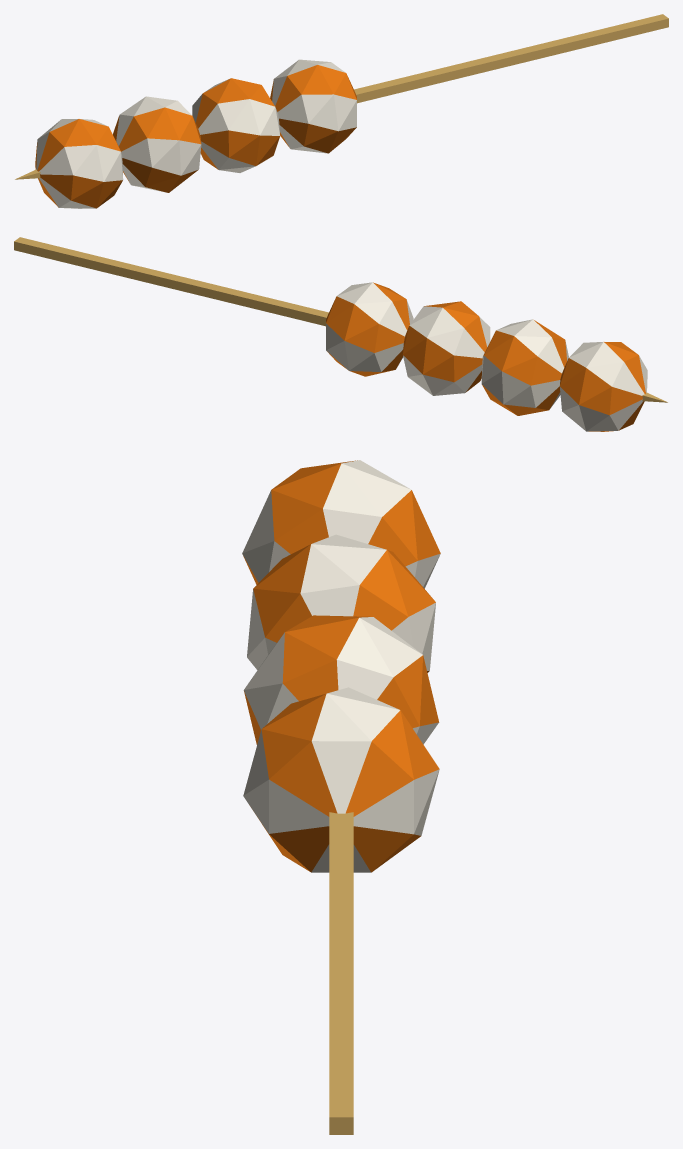
Rendered from SM_Cook_SkewerFishballStripe_Raw_01.fbx.
The picture shows the model from 3 angles, top to bottom: view 1: azimuth 30°, elevation 25°; view 2: azimuth 150°, elevation 25°; view 3: azimuth 270°, elevation 25°; orthographic projection. The views are drawn at different scales.
Visible parts, largest first — view 1: SM_Cook_SkewerFishballStripe_Raw_01; view 2: SM_Cook_SkewerFishballStripe_Raw_01; view 3: SM_Cook_SkewerFishballStripe_Raw_01.
Part boxes in pixels (bbox=[...]): SM_Cook_SkewerFishballStripe_Raw_01: bbox=[15, 14, 668, 208]; SM_Cook_SkewerFishballStripe_Raw_01: bbox=[14, 237, 667, 431]; SM_Cook_SkewerFishballStripe_Raw_01: bbox=[242, 460, 440, 1134].
Size of the model in its own units: 0.25 by 0.033 by 0.033.
1 material, 1 textured.
